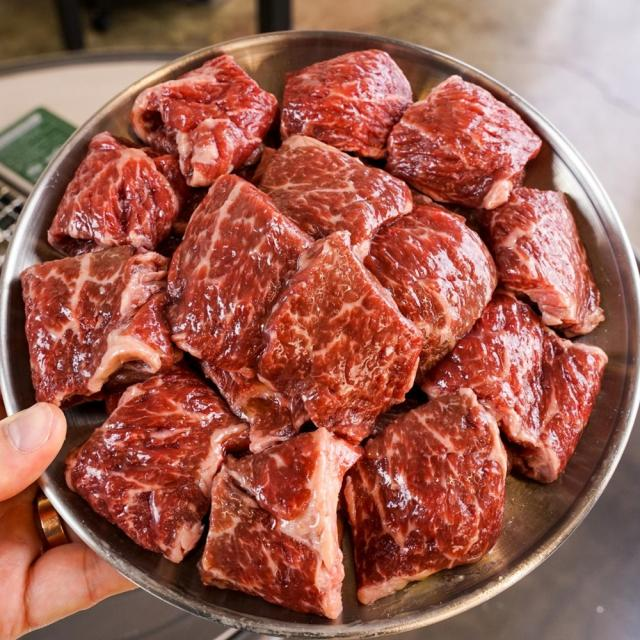beef: (104, 112, 512, 547)
